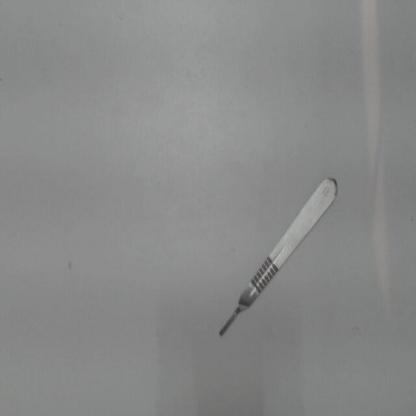No.3 BP Handle: (211, 166, 350, 351)
